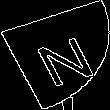N_N: (18, 24, 92, 86)
